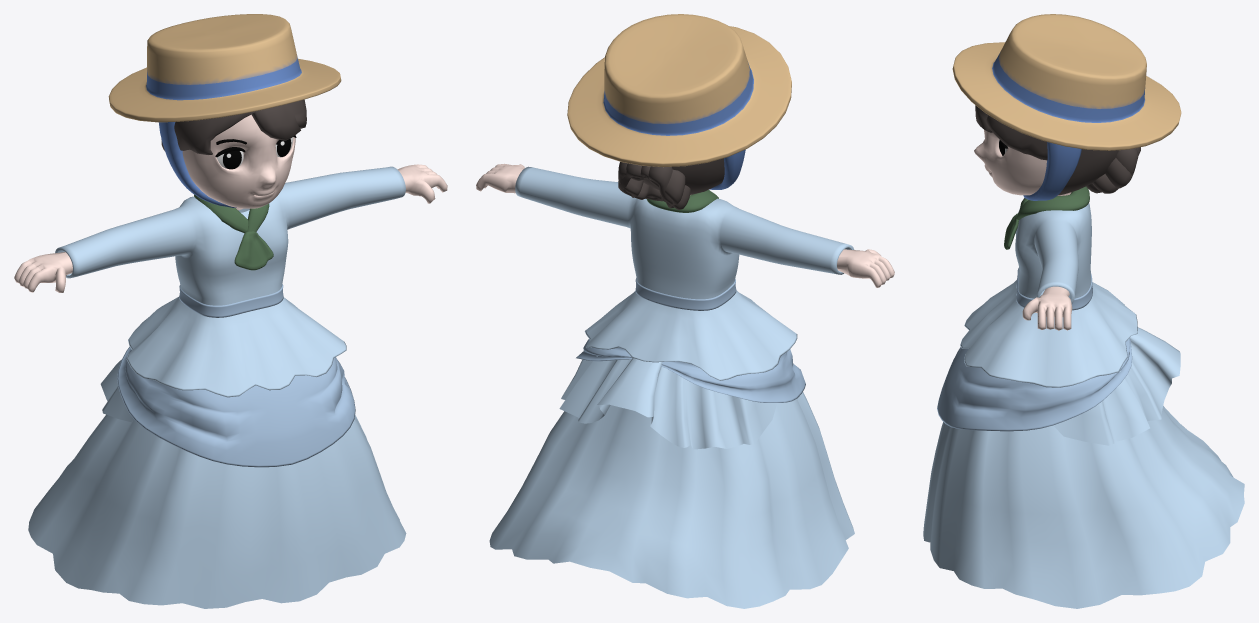
File: 모자쓴여자캐릭터.fbx
The picture shows the model from 3 angles, left to right: view 1: azimuth 30°, elevation 25°; view 2: azimuth 150°, elevation 25°; view 3: azimuth 270°, elevation 25°; orthographic projection. The views are drawn at different scales.
Parts seen in each view (by area): view 1: Character; view 2: Character; view 3: Character.
Boxes of the visible parts, x1,y1,x2,y2 form: Character: (14, 14, 447, 608); Character: (476, 14, 894, 608); Character: (923, 14, 1244, 608).
Size of the model in its own units: 154 by 184 by 106.
